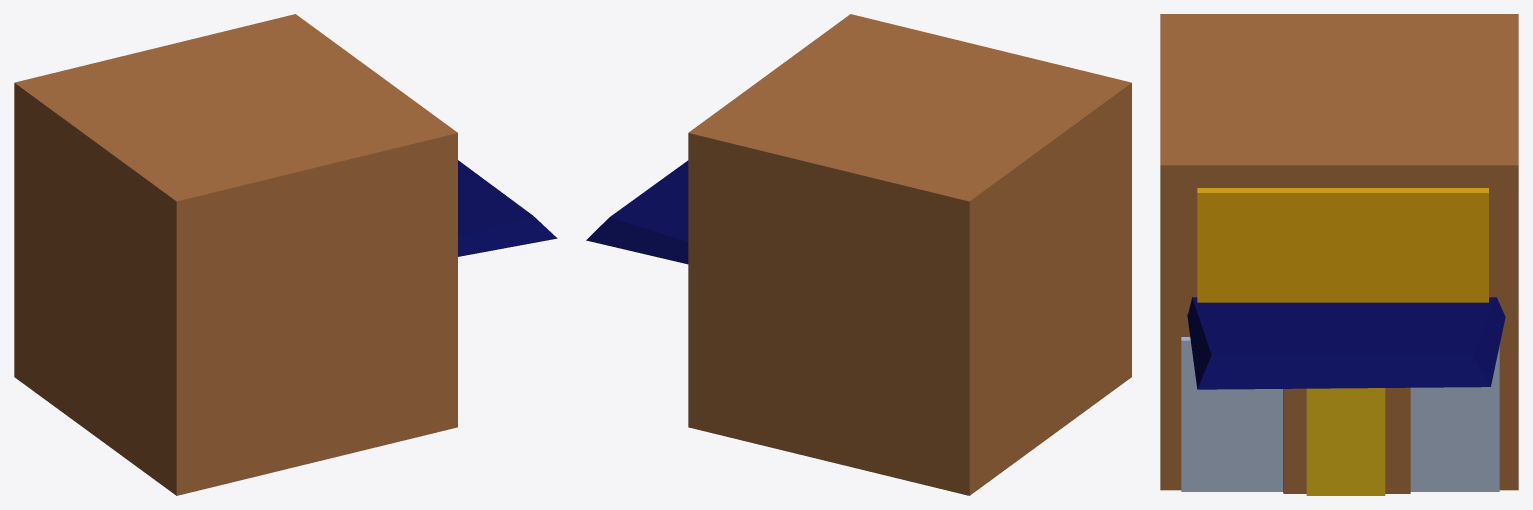
The model's file is austins.fbx.
The picture shows the model from 3 angles, left to right: view 1: azimuth 30°, elevation 25°; view 2: azimuth 150°, elevation 25°; view 3: azimuth 270°, elevation 25°; orthographic projection. The views are drawn at different scales.
Visible parts, largest first — view 1: Cube, Cube.002; view 2: Cube, Cube.002; view 3: Cube, Cube.001, Cube.002, Cube.003, Cube.006, Cube.004.
Boxes of the visible parts, <box> form: Cube: <box>14,14,457,495</box>; Cube.002: <box>458,160,557,256</box>; Cube: <box>688,14,1131,495</box>; Cube.002: <box>586,160,688,264</box>; Cube: <box>1160,14,1518,490</box>; Cube.001: <box>1197,188,1488,302</box>; Cube.002: <box>1187,297,1505,389</box>; Cube.003: <box>1181,337,1499,491</box>; Cube.006: <box>1306,388,1385,495</box>; Cube.004: <box>1283,387,1410,493</box>.
Size of the model in its own units: 283 by 200 by 200.
